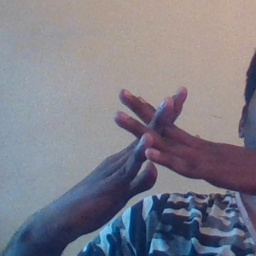W: (98, 73, 218, 225)
